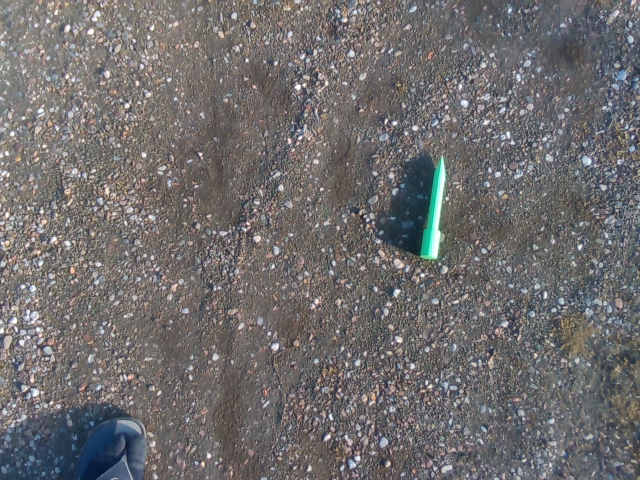Probe: (417, 156, 452, 262)
